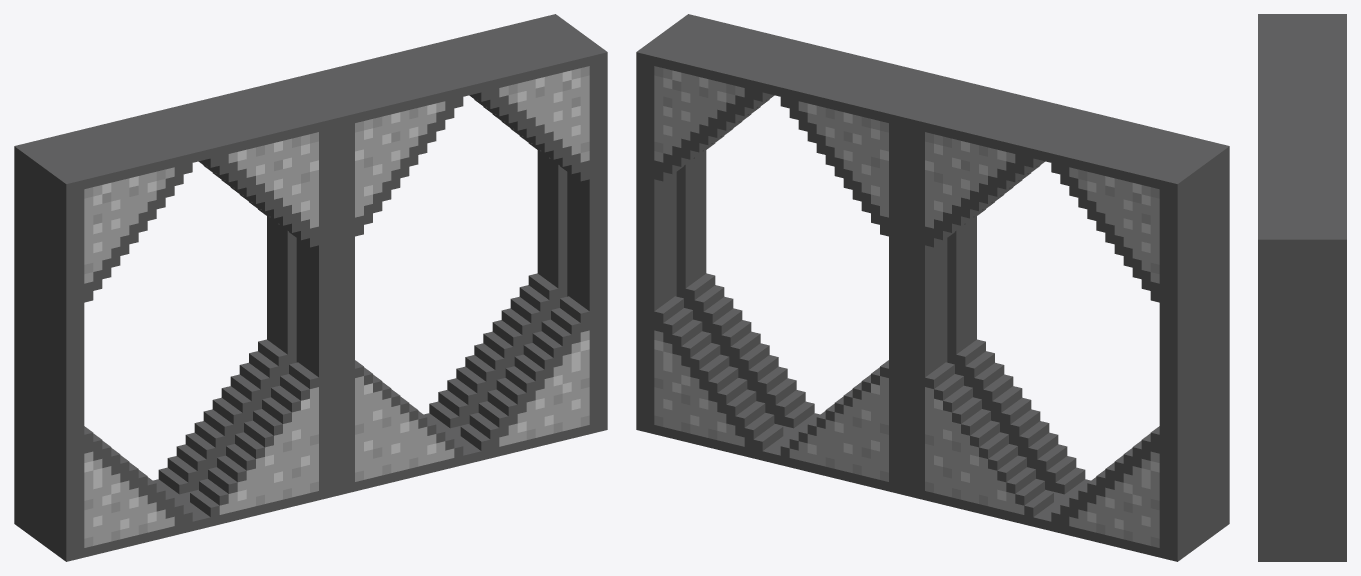
The model's file is Green House Wall 1.obj.
3 views of the same model, side by side, from view 1: azimuth 30°, elevation 25°; view 2: azimuth 150°, elevation 25°; view 3: azimuth 270°, elevation 25° (orthographic). The views are drawn at different scales.
Size of the model in its own units: 60 by 40 by 10.
1 material, 1 textured.
